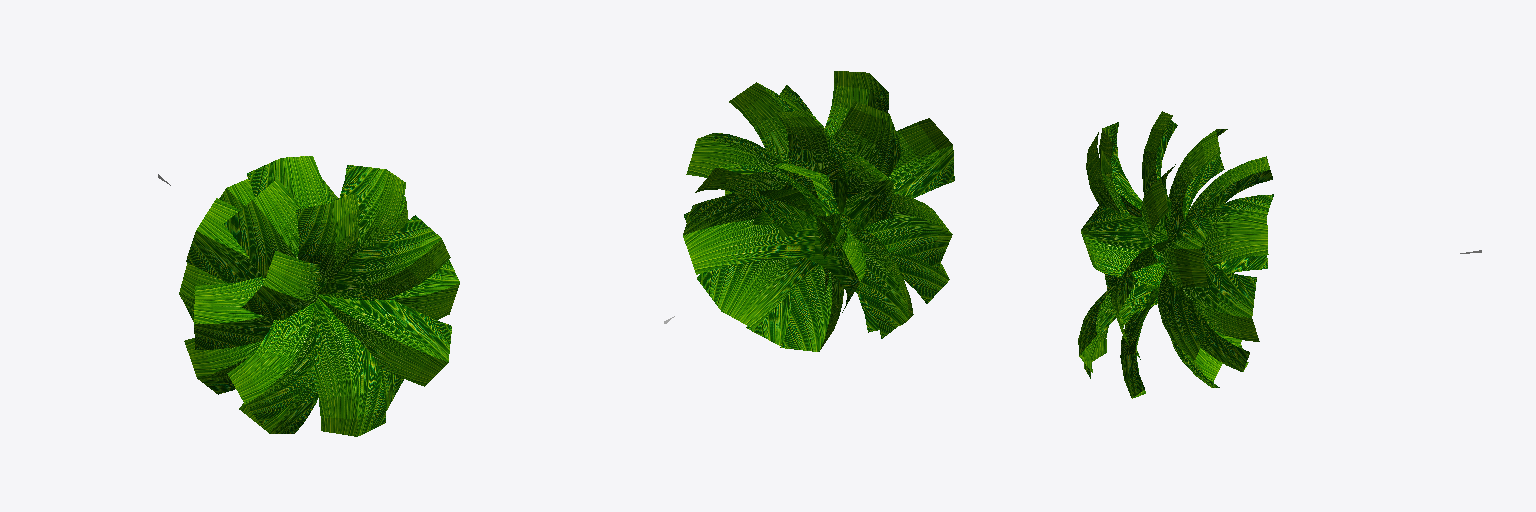
The picture shows the model from 3 angles: view 1: azimuth 30°, elevation 25°; view 2: azimuth 150°, elevation 25°; view 3: azimuth 270°, elevation 25°; orthographic projection.
Parts seen in each view (by area): view 1: palm_folhas.003; view 2: palm_folhas.003; view 3: palm_folhas.003.
Boxes of the visible parts, x1,y1,x2,y2 form: palm_folhas.003: [158, 156, 459, 436]; palm_folhas.003: [664, 71, 954, 351]; palm_folhas.003: [1078, 111, 1481, 398].
Size of the model in its own units: 7.3 by 7.05 by 10.34.
2 materials, 1 textured.